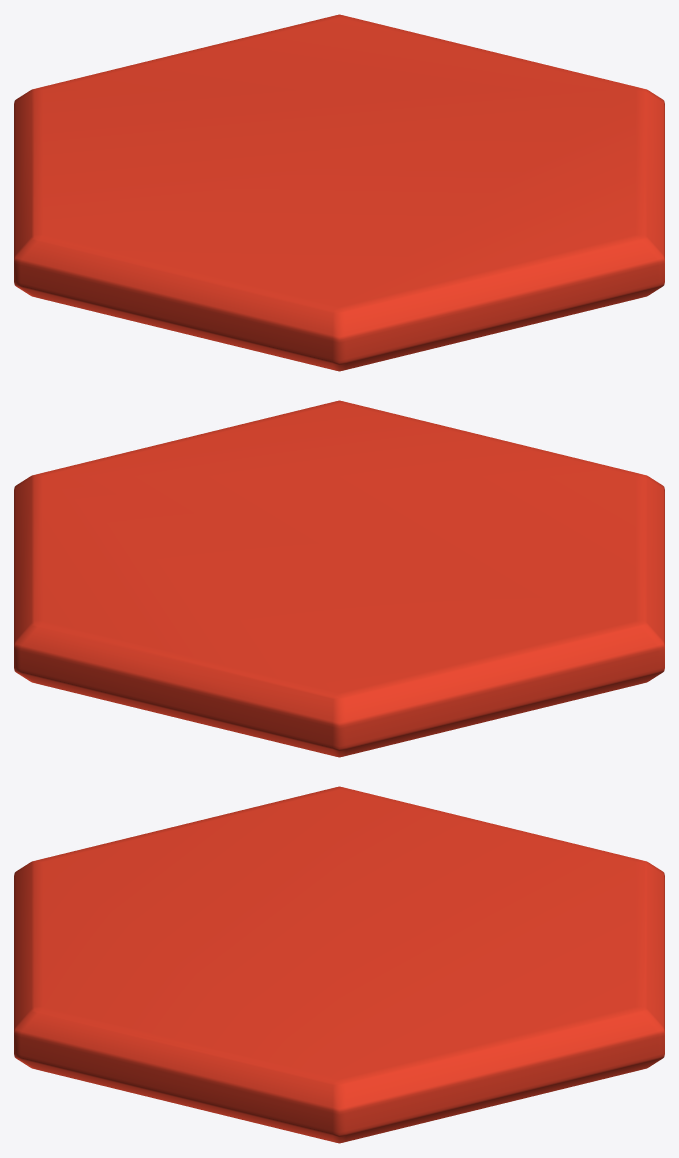
3 renders of one model, top to bottom at view 1: azimuth 30°, elevation 25°; view 2: azimuth 150°, elevation 25°; view 3: azimuth 270°, elevation 25°, orthographic.
Visible parts, largest first — view 1: Hexagon; view 2: Hexagon; view 3: Hexagon.
Boxes of the visible parts, x1,y1,x2,y2 form: Hexagon: [14, 14, 664, 371]; Hexagon: [14, 400, 664, 757]; Hexagon: [14, 786, 664, 1143].
Bounding box in the file's own units: 24.69 × 2.21 × 21.38.
